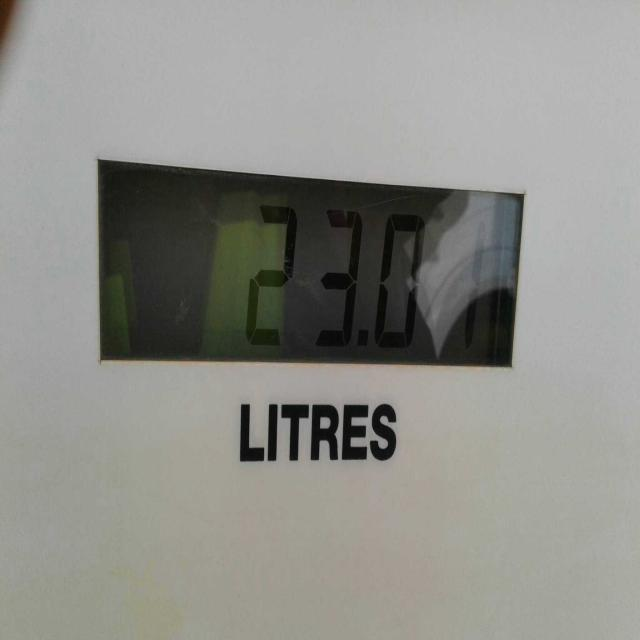.: (352, 322, 374, 365)
0: (376, 201, 434, 361)
2: (235, 200, 305, 352)
3: (317, 200, 363, 352)
